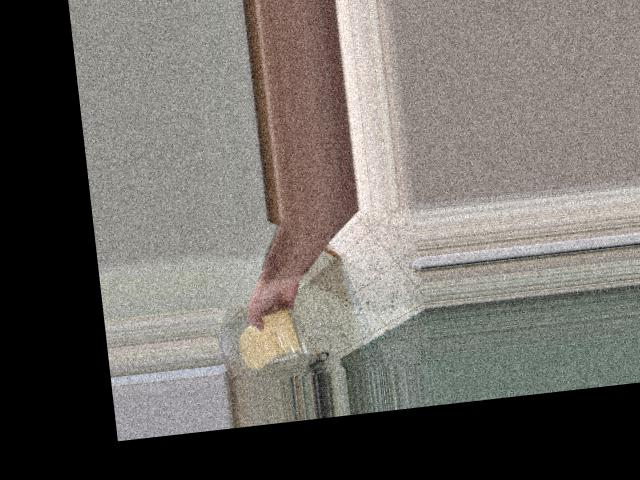cheese: (232, 305, 309, 376)
